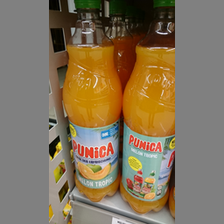juice: (62, 2, 123, 201), (119, 2, 174, 215)
